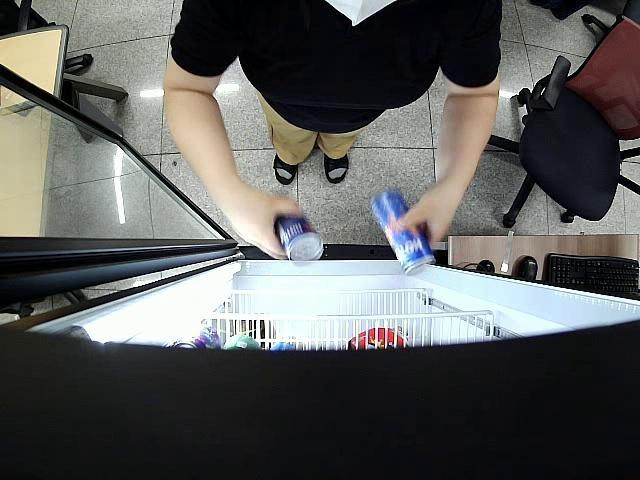16_hot6: (369, 188, 438, 276), (273, 213, 322, 262)
